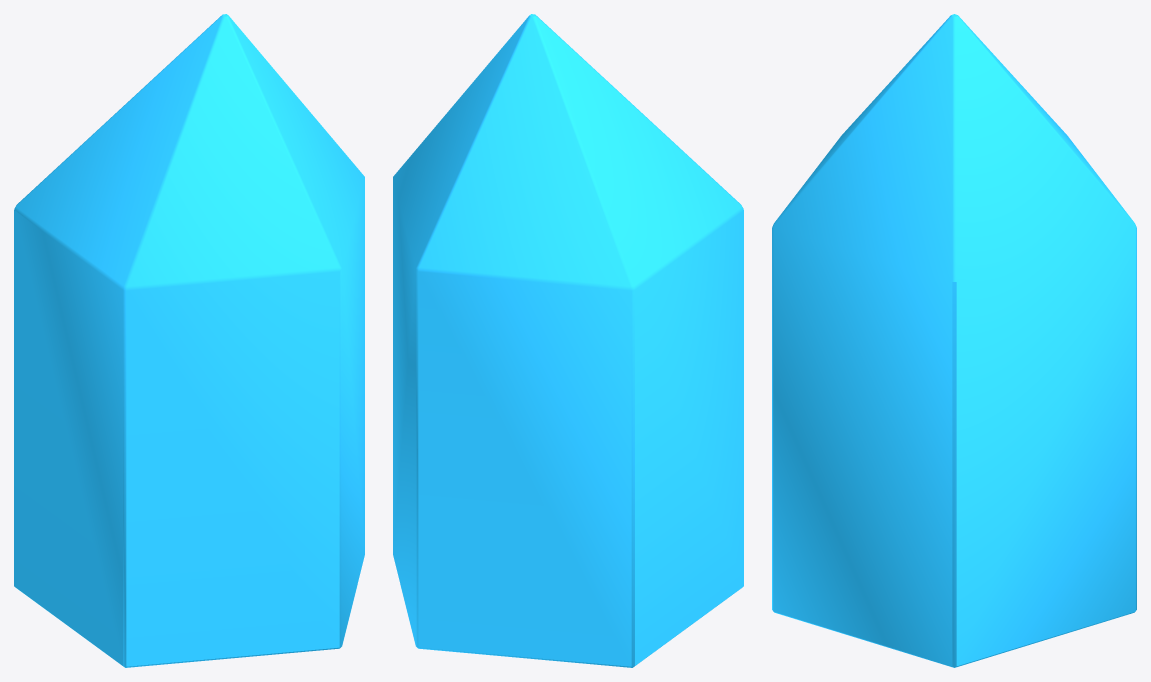
The model's file is crystal_single_01.glb.
3 views of the same model, side by side, from view 1: azimuth 30°, elevation 25°; view 2: azimuth 150°, elevation 25°; view 3: azimuth 270°, elevation 25° (orthographic).
Visible parts, largest first — view 1: crystal_single_01; view 2: crystal_single_01; view 3: crystal_single_01.
Part boxes in pixels (<box>): crystal_single_01: <box>14,14,364,667</box>; crystal_single_01: <box>393,14,743,667</box>; crystal_single_01: <box>772,14,1136,667</box>.
Size of the model in its own units: 0.2882 by 0.5359 by 0.3031.
